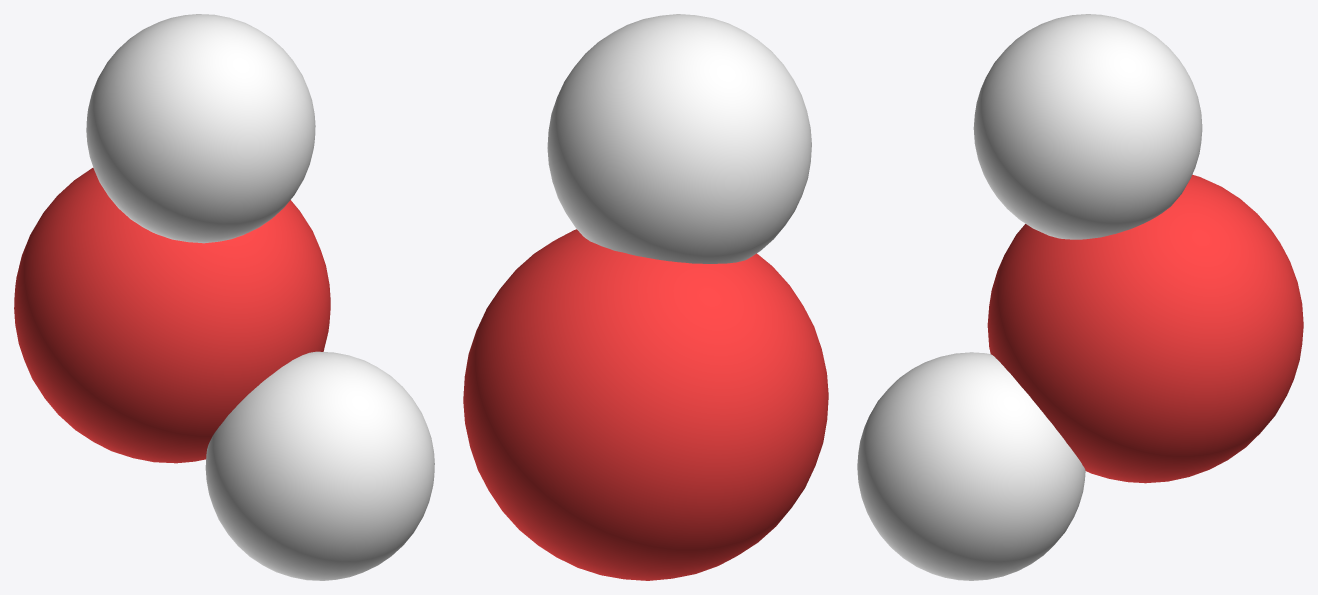
Rendered from eau.glb.
3 renders of one model, left to right at view 1: azimuth 30°, elevation 25°; view 2: azimuth 150°, elevation 25°; view 3: azimuth 270°, elevation 25°, orthographic. The views are drawn at different scales.
Parts seen in each view (by area): view 1: O_Atom, H_Atom, H_Atom_1; view 2: O_Atom, H_Atom; view 3: O_Atom, H_Atom, H_Atom_1.
Part boxes in pixels (left/top/right/bottom): O_Atom: left=14, top=168, right=330, bottom=463; H_Atom: left=86, top=14, right=315, bottom=243; H_Atom_1: left=205, top=351, right=434, bottom=580; O_Atom: left=463, top=229, right=828, bottom=580; H_Atom: left=547, top=14, right=811, bottom=263; O_Atom: left=987, top=174, right=1303, bottom=483; H_Atom: left=973, top=14, right=1202, bottom=239; H_Atom_1: left=857, top=352, right=1085, bottom=580.
Bounding box in the file's own units: 1.64 × 2.74 × 2.15.
